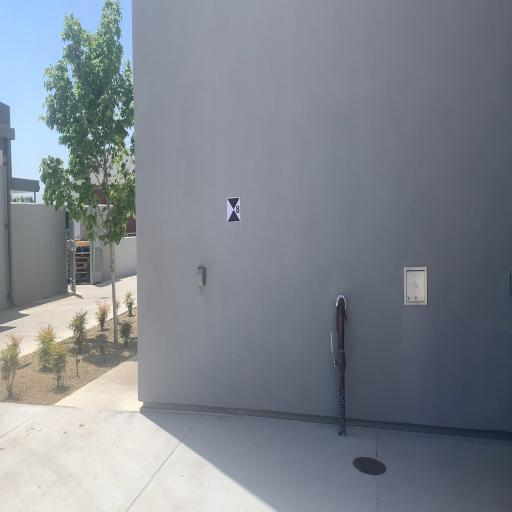target8: (227, 196, 241, 222)
